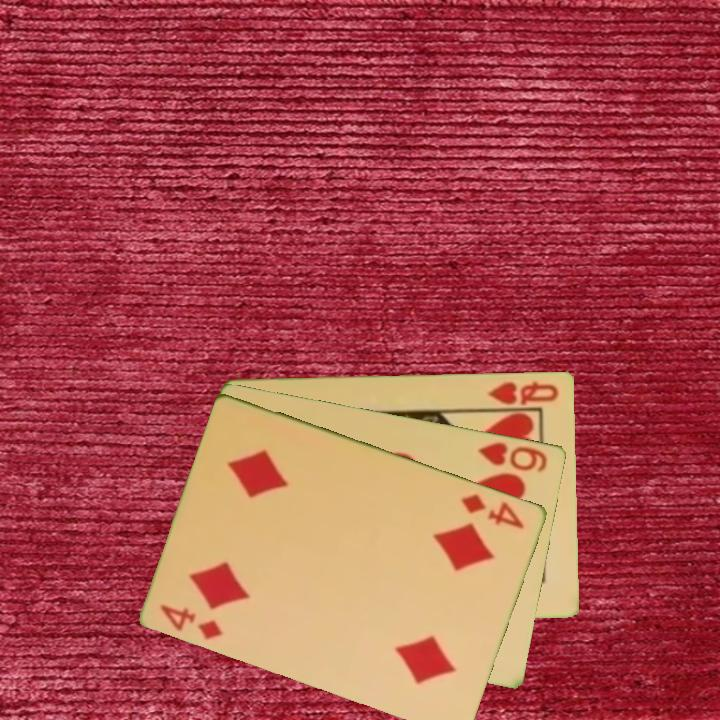4d: (157, 600, 226, 643), (458, 490, 528, 532)
6h: (475, 438, 551, 475)
Qh: (484, 377, 561, 408)
